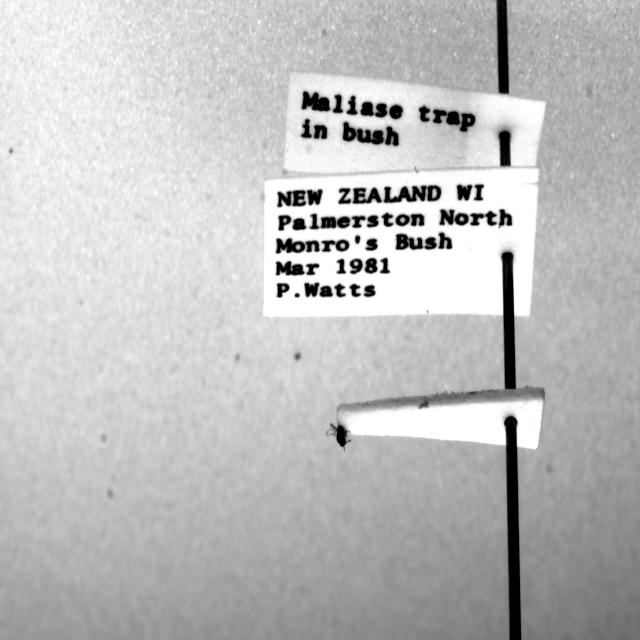typed_label: (264, 169, 539, 317), (284, 71, 545, 174)
